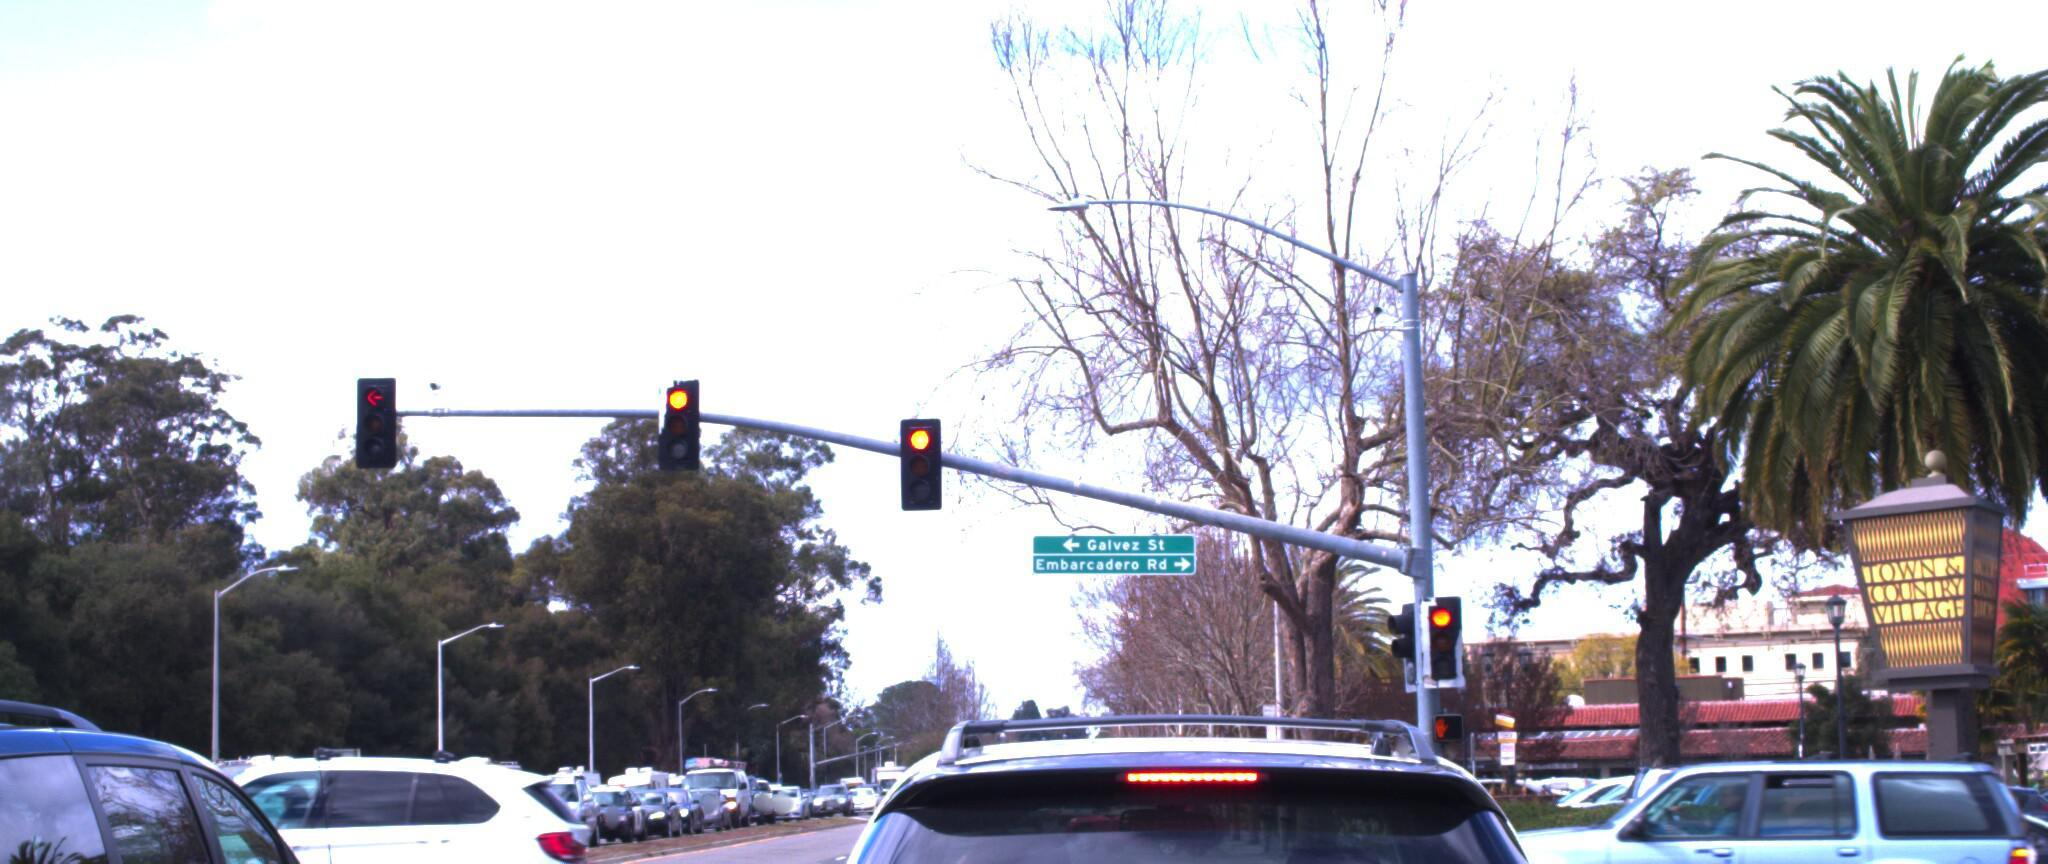car: (673, 671, 1718, 864), (1407, 722, 2048, 864), (0, 673, 440, 864), (0, 740, 600, 864), (1627, 780, 2048, 864), (509, 747, 619, 825), (2000, 703, 2048, 864)
other_vehicle: (0, 700, 97, 854)
